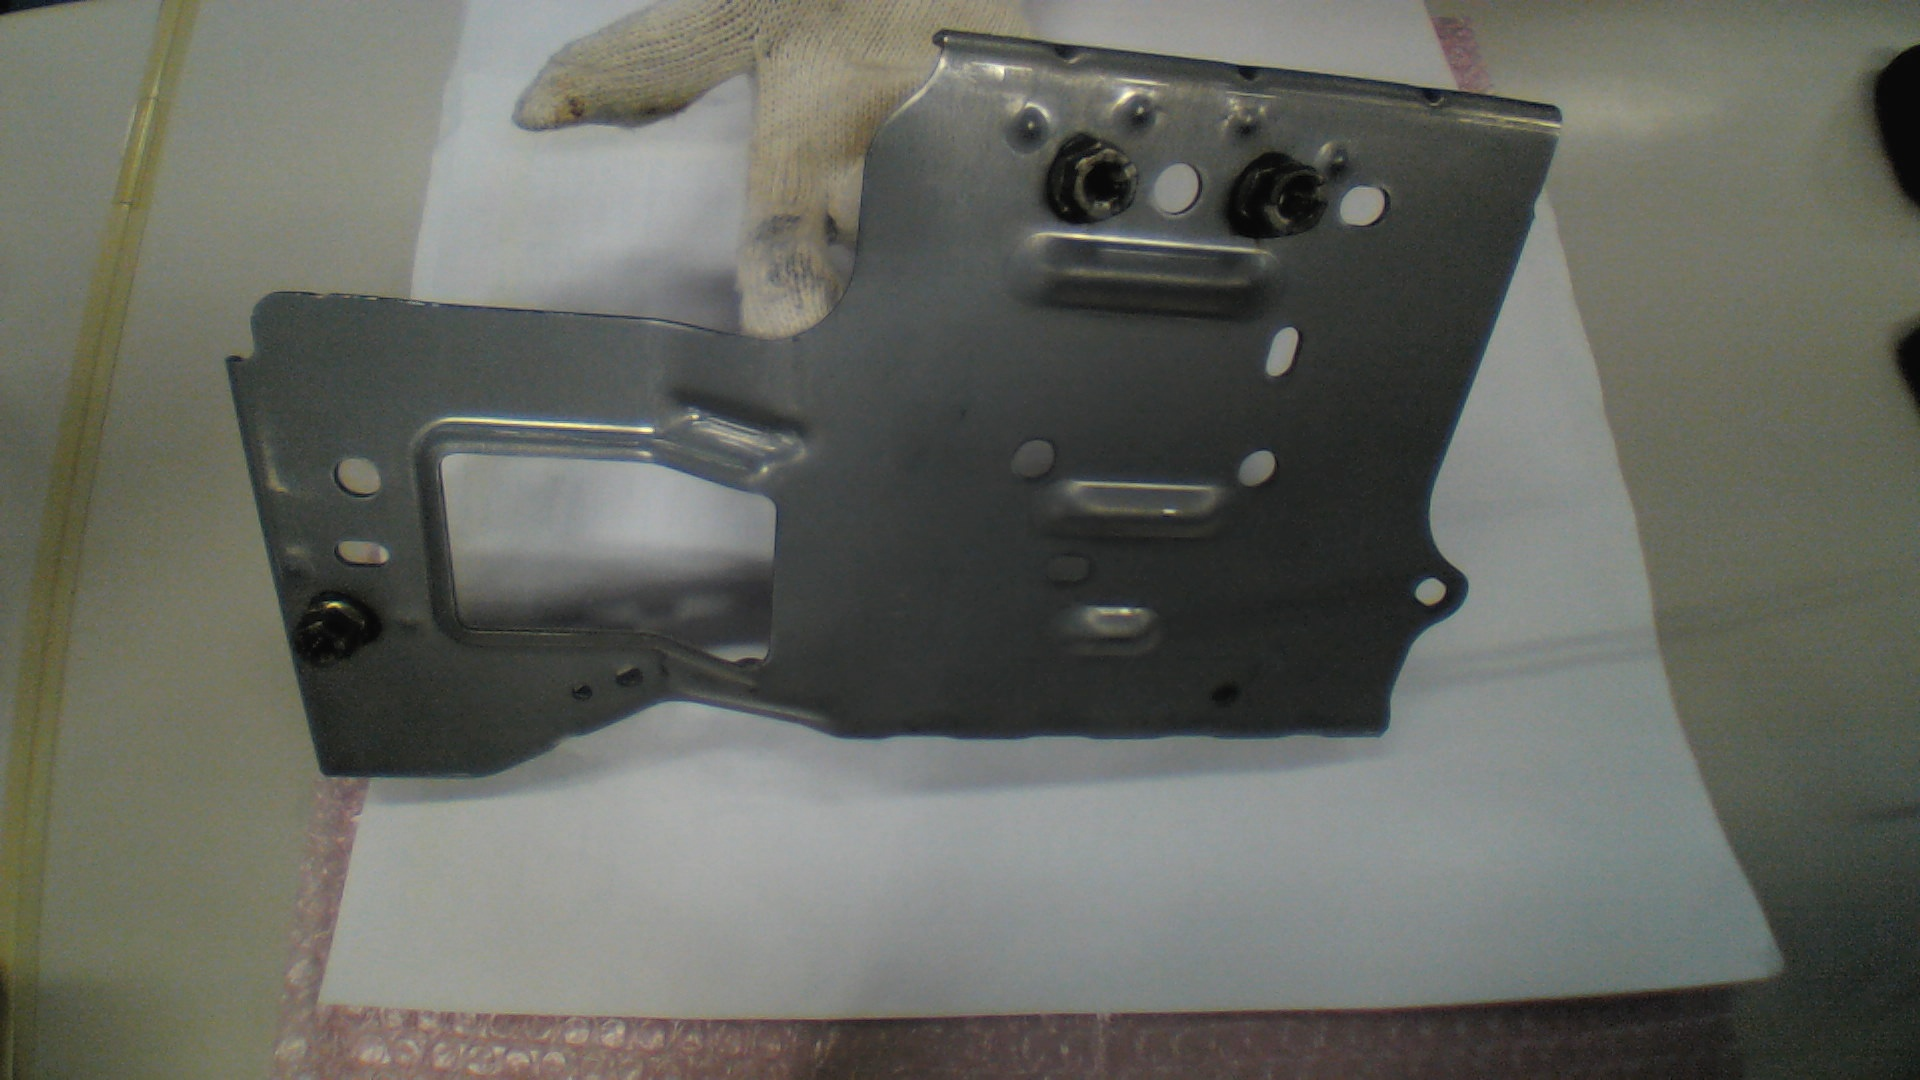dog: (1228, 152, 1328, 239), (1048, 135, 1138, 225), (293, 591, 376, 671)
